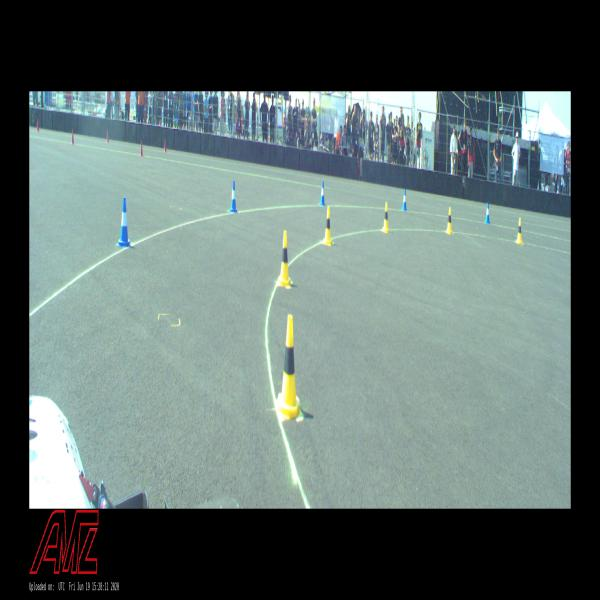blue_cone: (116, 197, 130, 246), (230, 180, 237, 212), (320, 181, 326, 206), (402, 189, 407, 211), (485, 202, 490, 223)
unknown_cone: (139, 140, 143, 157), (71, 129, 74, 144), (106, 130, 109, 144), (164, 139, 167, 153), (36, 119, 39, 132)
yellow_cone: (276, 315, 302, 420), (277, 231, 293, 286), (322, 206, 332, 245), (382, 202, 389, 232), (516, 218, 523, 243), (446, 208, 452, 234)
